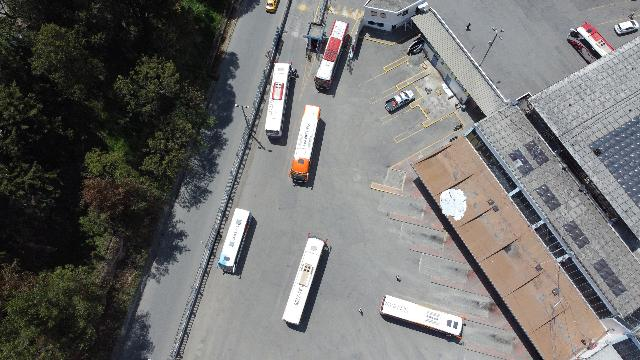Vehiculo: (384, 90, 414, 114), (614, 20, 638, 36), (265, 0, 279, 12)
